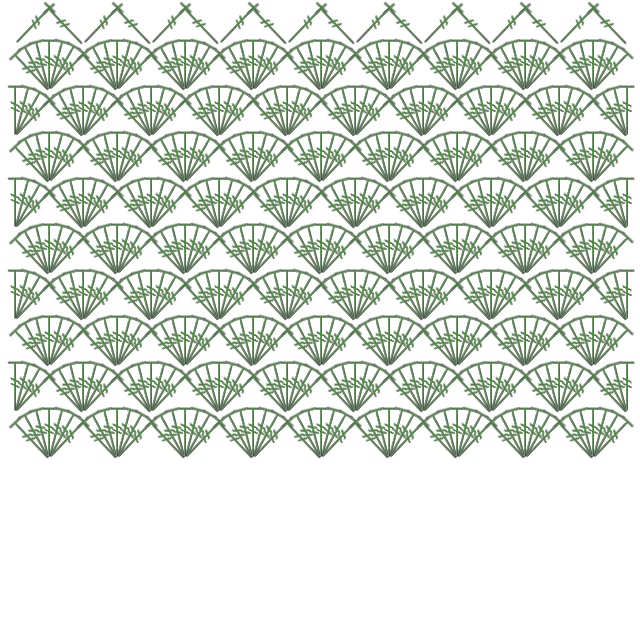fan: (9, 0, 59, 51), (41, 0, 91, 51), (77, 0, 127, 51), (109, 0, 159, 51), (145, 0, 195, 51), (177, 0, 227, 51), (213, 0, 263, 51), (245, 0, 295, 51), (281, 0, 331, 51), (313, 0, 363, 51), (349, 0, 399, 51), (381, 0, 431, 51), (417, 0, 467, 51), (449, 0, 499, 51), (485, 0, 535, 51), (517, 0, 567, 51), (553, 0, 603, 51), (585, 0, 635, 51), (7, 46, 57, 97), (43, 46, 93, 97), (75, 46, 125, 97), (111, 46, 161, 97), (143, 46, 193, 97), (179, 46, 229, 97), (211, 46, 261, 97), (247, 46, 297, 97), (279, 46, 329, 97), (315, 46, 365, 97), (347, 46, 397, 97), (383, 46, 433, 97), (415, 46, 465, 97), (451, 46, 501, 97), (483, 46, 533, 97), (519, 46, 569, 97), (551, 46, 601, 97), (587, 46, 637, 97), (9, 92, 59, 143), (41, 92, 91, 143), (77, 92, 127, 143), (109, 92, 159, 143), (145, 92, 195, 143), (177, 92, 227, 143), (213, 92, 263, 143), (245, 92, 295, 143), (281, 92, 331, 143), (313, 92, 363, 143), (349, 92, 399, 143), (381, 92, 431, 143), (417, 92, 467, 143), (449, 92, 499, 143), (485, 92, 535, 143), (517, 92, 567, 143), (553, 92, 603, 143), (585, 92, 635, 143), (7, 138, 57, 189), (43, 138, 93, 189), (75, 138, 125, 189), (111, 138, 161, 189), (143, 138, 193, 189), (179, 138, 229, 189), (211, 138, 261, 189), (247, 138, 297, 189), (279, 138, 329, 189), (315, 138, 365, 189), (347, 138, 397, 189), (383, 138, 433, 189), (415, 138, 465, 189), (451, 138, 501, 189), (483, 138, 533, 189), (519, 138, 569, 189), (551, 138, 601, 189), (587, 138, 637, 189), (9, 184, 59, 235), (41, 184, 91, 235), (77, 184, 127, 235), (109, 184, 159, 235), (145, 184, 195, 235), (177, 184, 227, 235), (213, 184, 263, 235), (245, 184, 295, 235), (281, 184, 331, 235), (313, 184, 363, 235), (349, 184, 399, 235), (381, 184, 431, 235), (417, 184, 467, 235), (449, 184, 499, 235), (485, 184, 535, 235), (517, 184, 567, 235), (553, 184, 603, 235), (585, 184, 635, 235), (7, 230, 57, 281), (43, 230, 93, 281), (75, 230, 125, 281), (111, 230, 161, 281), (143, 230, 193, 281), (179, 230, 229, 281), (211, 230, 261, 281), (247, 230, 297, 281), (279, 230, 329, 281), (315, 230, 365, 281), (347, 230, 397, 281), (383, 230, 433, 281), (415, 230, 465, 281), (451, 230, 501, 281), (483, 230, 533, 281), (519, 230, 569, 281), (551, 230, 601, 281), (587, 230, 637, 281), (9, 276, 59, 327), (41, 276, 91, 327), (77, 276, 127, 327), (109, 276, 159, 327), (145, 276, 195, 327), (177, 276, 227, 327), (213, 276, 263, 327), (245, 276, 295, 327), (281, 276, 331, 327), (313, 276, 363, 327), (349, 276, 399, 327), (381, 276, 431, 327), (417, 276, 467, 327), (449, 276, 499, 327), (485, 276, 535, 327), (517, 276, 567, 327), (553, 276, 603, 327), (585, 276, 635, 327), (7, 322, 57, 373), (43, 322, 93, 373), (75, 322, 125, 373), (111, 322, 161, 373), (143, 322, 193, 373), (179, 322, 229, 373), (211, 322, 261, 373), (247, 322, 297, 373), (279, 322, 329, 373), (315, 322, 365, 373), (347, 322, 397, 373), (383, 322, 433, 373), (415, 322, 465, 373), (451, 322, 501, 373), (483, 322, 533, 373), (519, 322, 569, 373), (551, 322, 601, 373), (587, 322, 637, 373), (9, 368, 59, 419), (41, 368, 91, 419), (77, 368, 127, 419), (109, 368, 159, 419), (145, 368, 195, 419), (177, 368, 227, 419), (213, 368, 263, 419), (245, 368, 295, 419), (281, 368, 331, 419), (313, 368, 363, 419), (349, 368, 399, 419), (381, 368, 431, 419), (417, 368, 467, 419), (449, 368, 499, 419), (485, 368, 535, 419), (517, 368, 567, 419), (553, 368, 603, 419), (585, 368, 635, 419), (7, 414, 57, 465), (43, 414, 93, 465), (75, 414, 125, 465), (111, 414, 161, 465), (143, 414, 193, 465), (179, 414, 229, 465), (211, 414, 261, 465), (247, 414, 297, 465), (279, 414, 329, 465), (315, 414, 365, 465), (347, 414, 397, 465), (383, 414, 433, 465), (415, 414, 465, 465), (451, 414, 501, 465), (483, 414, 533, 465), (519, 414, 569, 465), (551, 414, 601, 465), (587, 414, 637, 465), (16, 40, 58, 95), (42, 40, 84, 95), (84, 40, 126, 95), (110, 40, 152, 95), (152, 40, 194, 95), (178, 40, 220, 95), (220, 40, 262, 95), (246, 40, 288, 95), (288, 40, 330, 95), (314, 40, 356, 95), (356, 40, 398, 95), (382, 40, 424, 95), (424, 40, 466, 95), (450, 40, 492, 95), (492, 40, 534, 95), (518, 40, 560, 95), (560, 40, 602, 95), (586, 40, 628, 95), (8, 86, 50, 141), (50, 86, 92, 141), (76, 86, 118, 141), (118, 86, 160, 141), (144, 86, 186, 141), (186, 86, 228, 141), (212, 86, 254, 141), (254, 86, 296, 141), (280, 86, 322, 141), (322, 86, 364, 141), (348, 86, 390, 141), (390, 86, 432, 141), (416, 86, 458, 141), (458, 86, 500, 141), (484, 86, 526, 141), (526, 86, 568, 141), (552, 86, 594, 141), (594, 86, 636, 141), (16, 132, 58, 187), (42, 132, 84, 187), (84, 132, 126, 187), (110, 132, 152, 187), (152, 132, 194, 187), (178, 132, 220, 187), (220, 132, 262, 187), (246, 132, 288, 187), (288, 132, 330, 187), (314, 132, 356, 187), (356, 132, 398, 187), (382, 132, 424, 187), (424, 132, 466, 187), (450, 132, 492, 187), (492, 132, 534, 187), (518, 132, 560, 187), (560, 132, 602, 187), (586, 132, 628, 187), (8, 178, 50, 233), (50, 178, 92, 233), (76, 178, 118, 233), (118, 178, 160, 233), (144, 178, 186, 233), (186, 178, 228, 233), (212, 178, 254, 233), (254, 178, 296, 233), (280, 178, 322, 233), (322, 178, 364, 233), (348, 178, 390, 233), (390, 178, 432, 233), (416, 178, 458, 233), (458, 178, 500, 233), (484, 178, 526, 233), (526, 178, 568, 233), (552, 178, 594, 233), (594, 178, 636, 233), (16, 224, 58, 279), (42, 224, 84, 279), (84, 224, 126, 279), (110, 224, 152, 279), (152, 224, 194, 279), (178, 224, 220, 279), (220, 224, 262, 279), (246, 224, 288, 279), (288, 224, 330, 279), (314, 224, 356, 279), (356, 224, 398, 279), (382, 224, 424, 279), (424, 224, 466, 279), (450, 224, 492, 279), (492, 224, 534, 279), (518, 224, 560, 279), (560, 224, 602, 279), (586, 224, 628, 279), (8, 270, 50, 325), (50, 270, 92, 325), (76, 270, 118, 325), (118, 270, 160, 325), (144, 270, 186, 325), (186, 270, 228, 325), (212, 270, 254, 325), (254, 270, 296, 325), (280, 270, 322, 325), (322, 270, 364, 325), (348, 270, 390, 325), (390, 270, 432, 325), (416, 270, 458, 325), (458, 270, 500, 325), (484, 270, 526, 325), (526, 270, 568, 325), (552, 270, 594, 325), (594, 270, 636, 325), (16, 316, 58, 371), (42, 316, 84, 371), (84, 316, 126, 371), (110, 316, 152, 371), (152, 316, 194, 371), (178, 316, 220, 371), (220, 316, 262, 371), (246, 316, 288, 371), (288, 316, 330, 371), (314, 316, 356, 371), (356, 316, 398, 371), (382, 316, 424, 371), (424, 316, 466, 371), (450, 316, 492, 371), (492, 316, 534, 371), (518, 316, 560, 371), (560, 316, 602, 371), (586, 316, 628, 371), (8, 362, 50, 417), (50, 362, 92, 417), (76, 362, 118, 417), (118, 362, 160, 417), (144, 362, 186, 417), (186, 362, 228, 417), (212, 362, 254, 417), (254, 362, 296, 417), (280, 362, 322, 417), (322, 362, 364, 417), (348, 362, 390, 417), (390, 362, 432, 417), (416, 362, 458, 417), (458, 362, 500, 417), (484, 362, 526, 417), (526, 362, 568, 417), (552, 362, 594, 417), (594, 362, 636, 417), (16, 408, 58, 463), (42, 408, 84, 463), (84, 408, 126, 463), (110, 408, 152, 463), (152, 408, 194, 463), (178, 408, 220, 463), (220, 408, 262, 463), (246, 408, 288, 463), (288, 408, 330, 463), (314, 408, 356, 463), (356, 408, 398, 463), (382, 408, 424, 463), (424, 408, 466, 463), (450, 408, 492, 463), (492, 408, 534, 463), (518, 408, 560, 463), (560, 408, 602, 463), (586, 408, 628, 463), (28, 37, 59, 92), (41, 37, 72, 92), (96, 37, 127, 92), (109, 37, 140, 92), (164, 37, 195, 92), (177, 37, 208, 92), (232, 37, 263, 92), (245, 37, 276, 92), (300, 37, 331, 92), (313, 37, 344, 92), (368, 37, 399, 92), (381, 37, 412, 92), (436, 37, 467, 92), (449, 37, 480, 92), (504, 37, 535, 92), (517, 37, 548, 92), (572, 37, 603, 92), (585, 37, 616, 92), (7, 83, 38, 138), (62, 83, 93, 138), (75, 83, 106, 138), (130, 83, 161, 138), (143, 83, 174, 138), (198, 83, 229, 138), (211, 83, 242, 138), (266, 83, 297, 138), (279, 83, 310, 138), (334, 83, 365, 138), (347, 83, 378, 138), (402, 83, 433, 138), (415, 83, 446, 138), (470, 83, 501, 138), (483, 83, 514, 138), (538, 83, 569, 138), (551, 83, 582, 138), (606, 83, 637, 138), (28, 129, 59, 184), (41, 129, 72, 184), (96, 129, 127, 184), (109, 129, 140, 184), (164, 129, 195, 184), (177, 129, 208, 184), (232, 129, 263, 184), (245, 129, 276, 184), (300, 129, 331, 184), (313, 129, 344, 184), (368, 129, 399, 184), (381, 129, 412, 184), (436, 129, 467, 184), (449, 129, 480, 184), (504, 129, 535, 184), (517, 129, 548, 184), (572, 129, 603, 184), (585, 129, 616, 184), (7, 175, 38, 230), (62, 175, 93, 230), (75, 175, 106, 230), (130, 175, 161, 230), (143, 175, 174, 230), (198, 175, 229, 230), (211, 175, 242, 230), (266, 175, 297, 230), (279, 175, 310, 230), (334, 175, 365, 230), (347, 175, 378, 230), (402, 175, 433, 230), (415, 175, 446, 230), (470, 175, 501, 230), (483, 175, 514, 230), (538, 175, 569, 230), (551, 175, 582, 230), (606, 175, 637, 230), (28, 221, 59, 276), (41, 221, 72, 276), (96, 221, 127, 276), (109, 221, 140, 276), (164, 221, 195, 276), (177, 221, 208, 276), (232, 221, 263, 276), (245, 221, 276, 276), (300, 221, 331, 276), (313, 221, 344, 276), (368, 221, 399, 276), (381, 221, 412, 276), (436, 221, 467, 276), (449, 221, 480, 276), (504, 221, 535, 276), (517, 221, 548, 276), (572, 221, 603, 276), (585, 221, 616, 276), (7, 267, 38, 322), (62, 267, 93, 322), (75, 267, 106, 322), (130, 267, 161, 322), (143, 267, 174, 322), (198, 267, 229, 322), (211, 267, 242, 322), (266, 267, 297, 322), (279, 267, 310, 322), (334, 267, 365, 322), (347, 267, 378, 322), (402, 267, 433, 322), (415, 267, 446, 322), (470, 267, 501, 322), (483, 267, 514, 322), (538, 267, 569, 322), (551, 267, 582, 322), (606, 267, 637, 322), (28, 313, 59, 368), (41, 313, 72, 368), (96, 313, 127, 368), (109, 313, 140, 368), (164, 313, 195, 368), (177, 313, 208, 368), (232, 313, 263, 368), (245, 313, 276, 368), (300, 313, 331, 368), (313, 313, 344, 368), (368, 313, 399, 368), (381, 313, 412, 368), (436, 313, 467, 368), (449, 313, 480, 368), (504, 313, 535, 368), (517, 313, 548, 368), (572, 313, 603, 368), (585, 313, 616, 368), (7, 359, 38, 414), (62, 359, 93, 414), (75, 359, 106, 414), (130, 359, 161, 414), (143, 359, 174, 414), (198, 359, 229, 414), (211, 359, 242, 414), (266, 359, 297, 414), (279, 359, 310, 414), (334, 359, 365, 414), (347, 359, 378, 414), (402, 359, 433, 414), (415, 359, 446, 414), (470, 359, 501, 414), (483, 359, 514, 414), (538, 359, 569, 414), (551, 359, 582, 414), (606, 359, 637, 414), (28, 405, 59, 460), (41, 405, 72, 460), (96, 405, 127, 460), (109, 405, 140, 460), (164, 405, 195, 460), (177, 405, 208, 460), (232, 405, 263, 460), (245, 405, 276, 460), (300, 405, 331, 460), (313, 405, 344, 460), (368, 405, 399, 460), (381, 405, 412, 460), (436, 405, 467, 460), (449, 405, 480, 460), (504, 405, 535, 460), (517, 405, 548, 460), (572, 405, 603, 460), (585, 405, 616, 460), (40, 38, 60, 90), (108, 38, 128, 90), (176, 38, 196, 90), (244, 38, 264, 90), (312, 38, 332, 90), (380, 38, 400, 90), (448, 38, 468, 90), (516, 38, 536, 90), (584, 38, 604, 90), (6, 84, 26, 136), (74, 84, 94, 136), (142, 84, 162, 136), (210, 84, 230, 136), (278, 84, 298, 136), (346, 84, 366, 136), (414, 84, 434, 136), (482, 84, 502, 136), (550, 84, 570, 136), (618, 84, 638, 136), (40, 130, 60, 182), (108, 130, 128, 182), (176, 130, 196, 182), (244, 130, 264, 182), (312, 130, 332, 182), (380, 130, 400, 182), (448, 130, 468, 182), (516, 130, 536, 182), (584, 130, 604, 182), (6, 176, 26, 228), (74, 176, 94, 228), (142, 176, 162, 228), (210, 176, 230, 228), (278, 176, 298, 228), (346, 176, 366, 228), (414, 176, 434, 228), (482, 176, 502, 228), (550, 176, 570, 228), (618, 176, 638, 228), (40, 222, 60, 274), (108, 222, 128, 274), (176, 222, 196, 274), (244, 222, 264, 274), (312, 222, 332, 274), (380, 222, 400, 274), (448, 222, 468, 274), (516, 222, 536, 274), (584, 222, 604, 274), (6, 268, 26, 320), (74, 268, 94, 320), (142, 268, 162, 320), (210, 268, 230, 320), (278, 268, 298, 320), (346, 268, 366, 320), (414, 268, 434, 320), (482, 268, 502, 320), (550, 268, 570, 320), (618, 268, 638, 320), (40, 314, 60, 366), (108, 314, 128, 366), (176, 314, 196, 366), (244, 314, 264, 366), (312, 314, 332, 366), (380, 314, 400, 366), (448, 314, 468, 366), (516, 314, 536, 366), (584, 314, 604, 366), (6, 360, 26, 412), (74, 360, 94, 412), (142, 360, 162, 412), (210, 360, 230, 412), (278, 360, 298, 412), (346, 360, 366, 412), (414, 360, 434, 412), (482, 360, 502, 412), (550, 360, 570, 412), (618, 360, 638, 412), (40, 406, 60, 458), (108, 406, 128, 458), (176, 406, 196, 458), (244, 406, 264, 458), (312, 406, 332, 458), (380, 406, 400, 458), (448, 406, 468, 458), (516, 406, 536, 458), (584, 406, 604, 458)
